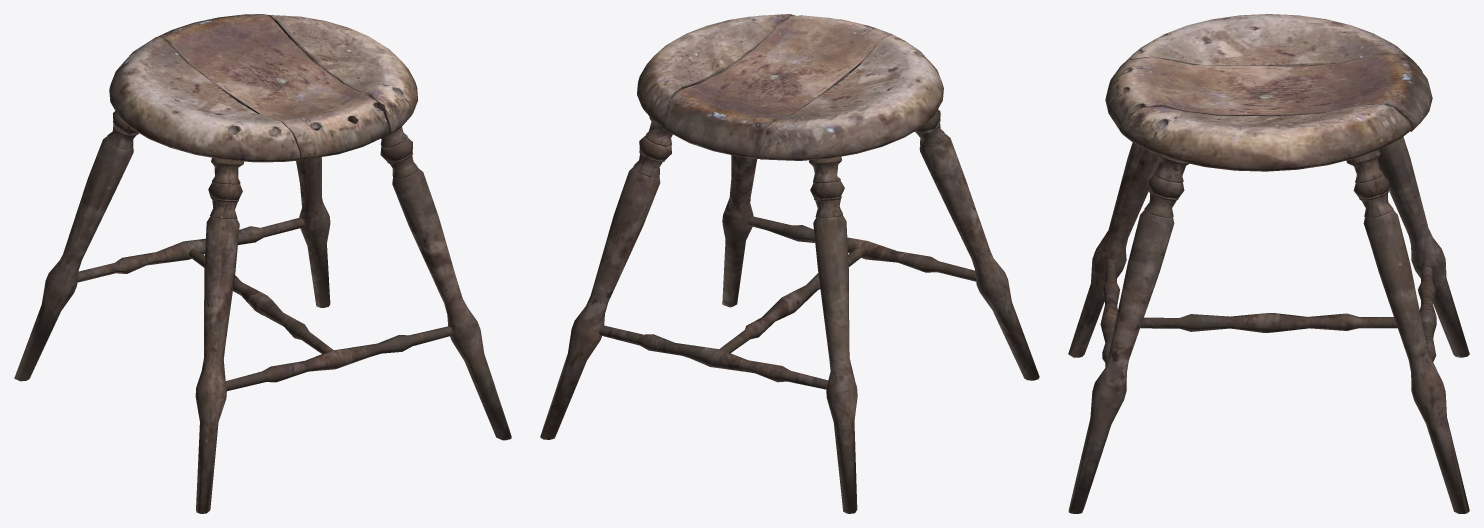
File: stool_low.glb
3 renders of one model, left to right at view 1: azimuth 30°, elevation 25°; view 2: azimuth 150°, elevation 25°; view 3: azimuth 270°, elevation 25°, orthographic. The views are drawn at different scales.
Visible parts, largest first — view 1: wooden_stool_01; view 2: wooden_stool_01; view 3: wooden_stool_01.
Boxes of the visible parts, left/top/right/bottom form: wooden_stool_01: left=14, top=14, right=511, bottom=513; wooden_stool_01: left=540, top=14, right=1039, bottom=513; wooden_stool_01: left=1068, top=14, right=1469, bottom=513.
Size of the model in its own units: 0.4242 by 0.4365 by 0.4417.
Materials: 1 (1 with a texture image).
